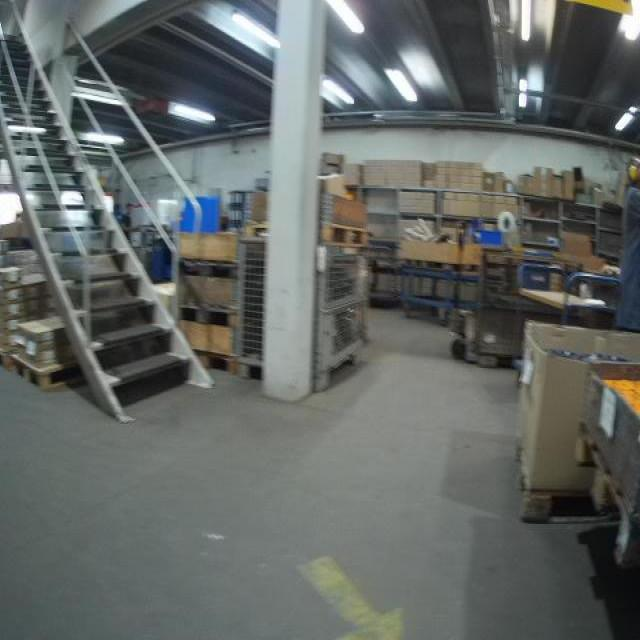pallet: (576, 423, 640, 570), (514, 436, 609, 534), (245, 221, 370, 252), (7, 351, 98, 387), (177, 346, 232, 373), (174, 301, 237, 324), (182, 258, 238, 276), (403, 258, 459, 273)
pallet_truck: (446, 219, 477, 359)
stillage: (239, 245, 367, 393), (471, 246, 573, 366)
